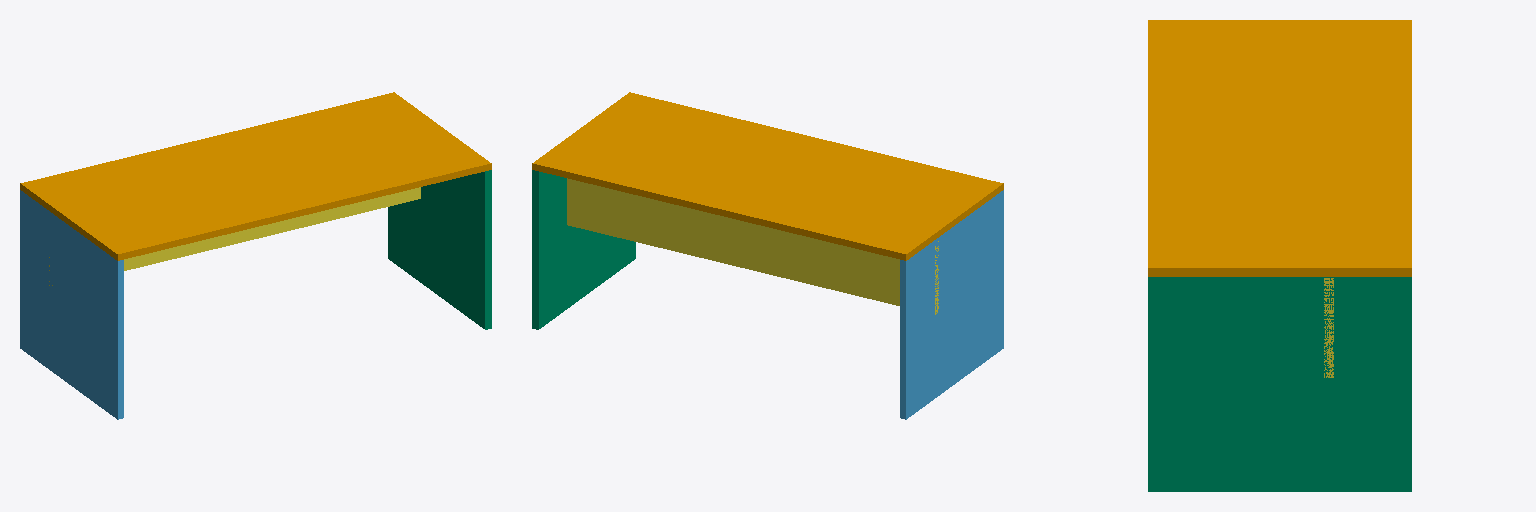
The robot description file, URDF, robot "desktop_table":
<?xml version="1.0"?>
<robot name="desktop_table"
       xmlns:xi="http://www.w3.org/2001/XInclude"
       xmlns:gazebo="http://playerstage.sourceforge.net/gazebo/xmlschema/#gz"
       xmlns:model="http://playerstage.sourceforge.net/gazebo/xmlschema/#model"
       xmlns:sensor="http://playerstage.sourceforge.net/gazebo/xmlschema/#sensor"
       xmlns:body="http://playerstage.sourceforge.net/gazebo/xmlschema/#body"
       xmlns:geom="http://playerstage.sourceforge.net/gazebo/xmlschema/#geom"
       xmlns:joint="http://playerstage.sourceforge.net/gazebo/xmlschema/#joint"
       xmlns:interface="http://playerstage.sourceforge.net/gazebo/xmlschema/#interface"
       xmlns:rendering="http://playerstage.sourceforge.net/gazebo/xmlschema/#rendering"
       xmlns:renderable="http://playerstage.sourceforge.net/gazebo/xmlschema/#renderable"
       xmlns:controller="http://playerstage.sourceforge.net/gazebo/xmlschema/#controller"
       xmlns:physics="http://playerstage.sourceforge.net/gazebo/xmlschema/#physics">

  <link name="table_base">
    <inertial>
      <mass value="25.0" />
      <origin xyz="0 0 0" />
      <inertia ixx="1" ixy="0"  ixz="0"
               iyy="1" iyz="0"
               izz="1" />
    </inertial> 
    <visual>
      <origin xyz="0 0 0" />
      <geometry>
        <box size="1.80 0.81 0.03" />
      </geometry>
    </visual> 
    <collision>
      <origin xyz="0 0 0" />
      <geometry>
        <box size="1.80 0.81 0.03" />
      </geometry>
    </collision>
  </link>
  <gazebo reference="table_base">
    <material>Gazebo/Wood</material>
    <mu1>50.0</mu1>
    <mu2>50.0</mu2>
    <kp>1000000.0</kp>
    <kd>1.0</kd>
    <turnGravityOff>false</turnGravityOff>
  </gazebo>

  <joint name="left_leg_joint" type="fixed" >
    <parent link="table_base" />
    <origin xyz="-0.885 0.0 -0.38" rpy="0 0 0" />
    <child link="left_leg_link" />
  </joint> 

  <link name="left_leg_link">
    <inertial>
      <mass value="5.0" />
      <origin xyz="0 0 0" />
      <inertia ixx="1" ixy="0"  ixz="0"
               iyy="1" iyz="0"
               izz="1" />
    </inertial> 
    <visual>
      <origin xyz="0 0 0" />
      <geometry>
        <box size="0.03 0.81 0.73" />
      </geometry>
    </visual> 
    <collision>
      <origin xyz="0 0 0" />
      <geometry>
        <box size="0.03 0.81 0.73" />
      </geometry>
    </collision>
  </link>
  <gazebo reference="left_leg_link">
    <material>Gazebo/Grey</material>
    <mu1>50.0</mu1>
    <mu2>50.0</mu2>
    <kp>1000000.0</kp>
    <kd>1.0</kd>
    <turnGravityOff>false</turnGravityOff>
  </gazebo>

  <joint name="right_leg_joint" type="fixed" >
    <parent link="table_base" />
    <origin xyz="0.885 0.0 -0.38" rpy="0 0 0" />
    <child link="right_leg_link" />
  </joint> 

  <link name="right_leg_link">
    <inertial>
      <mass value="5.0" />
      <origin xyz="0 0 0" />
      <inertia ixx="1" ixy="0"  ixz="0"
               iyy="1" iyz="0"
               izz="1" />
    </inertial> 
    <visual>
      <origin xyz="0 0 0" />
      <geometry>
        <box size="0.03 0.81 0.73" />
      </geometry>
    </visual> 
    <collision>
      <origin xyz="0 0 0" />
      <geometry>
        <box size="0.03 0.81 0.73" />
      </geometry>
    </collision>
  </link>
  <gazebo reference="right_leg_link">
    <material>Gazebo/Grey</material>
    <mu1>50.0</mu1>
    <mu2>50.0</mu2>
    <kp>1000000.0</kp>
    <kd>1.0</kd>
    <turnGravityOff>false</turnGravityOff>
  </gazebo>

  <joint name="base_support_joint" type="fixed" >
    <parent link="table_base" />
    <origin xyz="0.0 0.15 -0.19" rpy="0 0 0" />
    <child link="base_support_link" />
  </joint> 

  <link name="base_support_link">
    <inertial>
      <mass value="0.1" />
      <origin xyz="0 0 0" />
      <inertia ixx="1" ixy="0"  ixz="0"
               iyy="1" iyz="0"
               izz="1" />
    </inertial> 
    <visual>
      <origin xyz="0 0 0" />
      <geometry>
        <box size="1.8 0.03 0.34" />
      </geometry>
    </visual> 
    <collision>
      <origin xyz="0 0 0" />
      <geometry>
        <box size="1.8 0.03 0.34" />
      </geometry>
    </collision>
  </link>
  <gazebo reference="base_support_link">
    <material>Gazebo/Grey</material>
    <mu1>50.0</mu1>
    <mu2>50.0</mu2>
    <kp>1000000.0</kp>
    <kd>1.0</kd>
    <turnGravityOff>false</turnGravityOff>
  </gazebo>

  
</robot>

--- Facts derived from the render (not from the file) ---
3 views of the same robot in one strip: view 1: azimuth 30°, elevation 25°; view 2: azimuth 150°, elevation 25°; view 3: azimuth 270°, elevation 25° (orthographic).
Model desktop_table with 4 links and 3 joints (3 fixed), rooted at table_base, posed every joint at zero.
Visible links, largest first — view 1: table_base, left_leg_link, right_leg_link, base_support_link; view 2: table_base, left_leg_link, base_support_link, right_leg_link; view 3: table_base, right_leg_link, base_support_link.
Link boxes in pixels (x1,y1,x2,y2): table_base: [20, 92, 491, 260]; left_leg_link: [20, 190, 123, 419]; right_leg_link: [388, 170, 491, 329]; base_support_link: [49, 187, 420, 285]; table_base: [532, 92, 1003, 260]; left_leg_link: [900, 190, 1003, 419]; base_support_link: [567, 178, 938, 314]; right_leg_link: [532, 170, 635, 329]; table_base: [1148, 20, 1411, 276]; right_leg_link: [1148, 277, 1411, 491]; base_support_link: [1324, 278, 1333, 377].
Bounding box of the posed robot: 1.8 × 0.81 × 0.76 m (x, y, z).
Geometry: primitives only (box / cylinder / sphere), no mesh files.